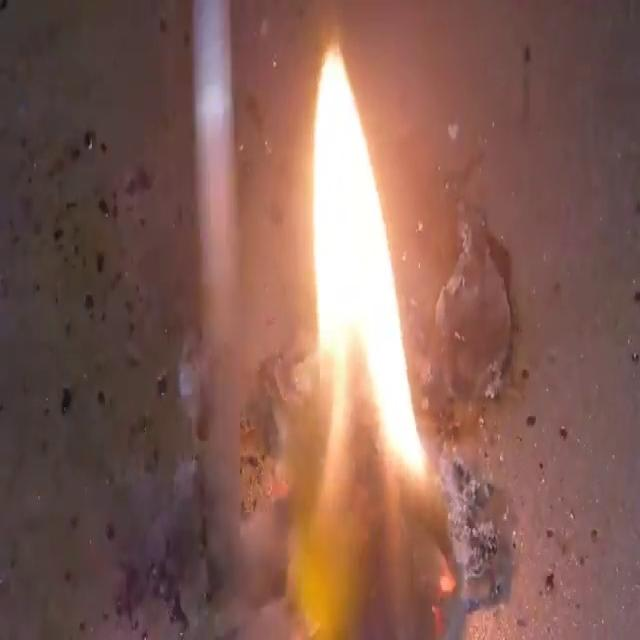Fire: (304, 39, 429, 487)
